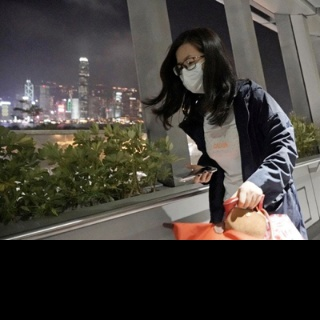with_mask: (176, 54, 204, 93)
